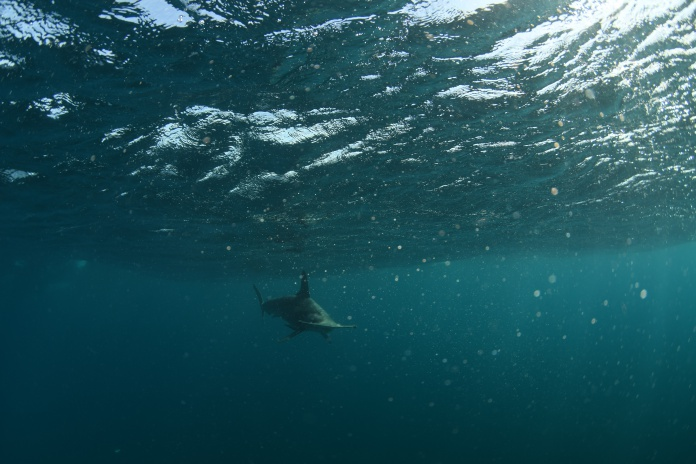Hammer: (218, 259, 364, 352)
